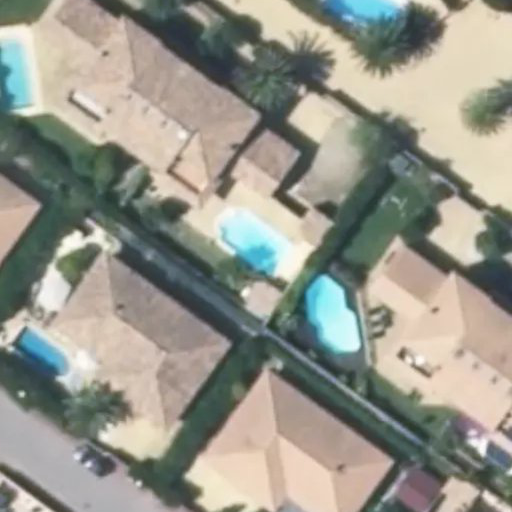pool: (217, 237, 294, 246)
